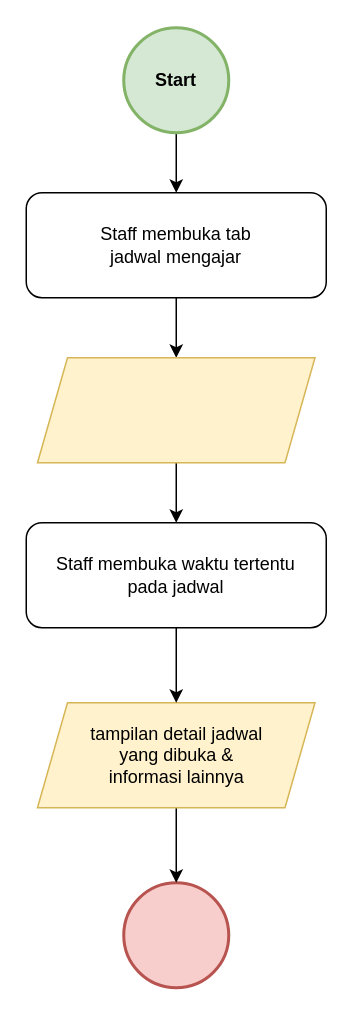
Image size: 353x1014. Some labels were removed from this diagram. Here are the shapes that lost their labels. From the top down, the centre of each, then its label:
At [175,409]: "jadwal latihan".
At [176,934]: "End".
